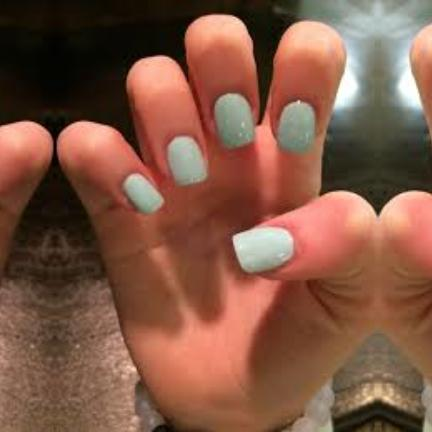Nail: (233, 227, 293, 274), (213, 92, 253, 148), (277, 100, 316, 154), (167, 136, 206, 186), (122, 174, 163, 213)
